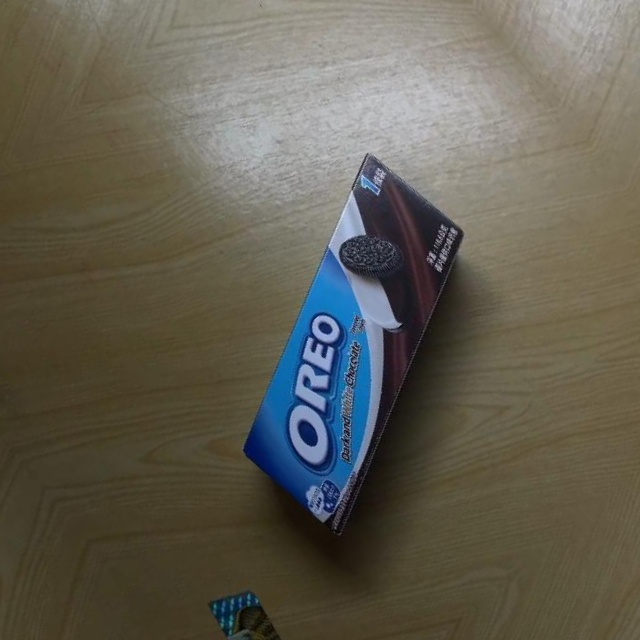Oreo: (147, 133, 566, 548)
